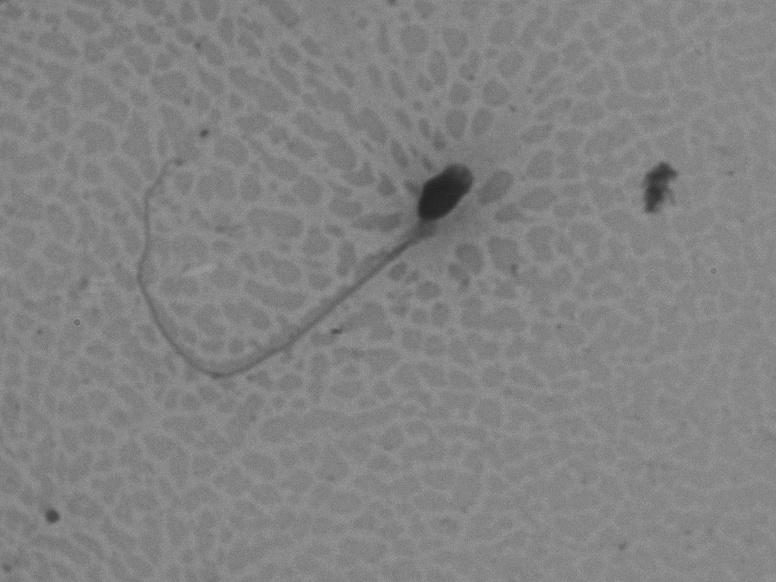Abnormal: (101, 107, 538, 406)
